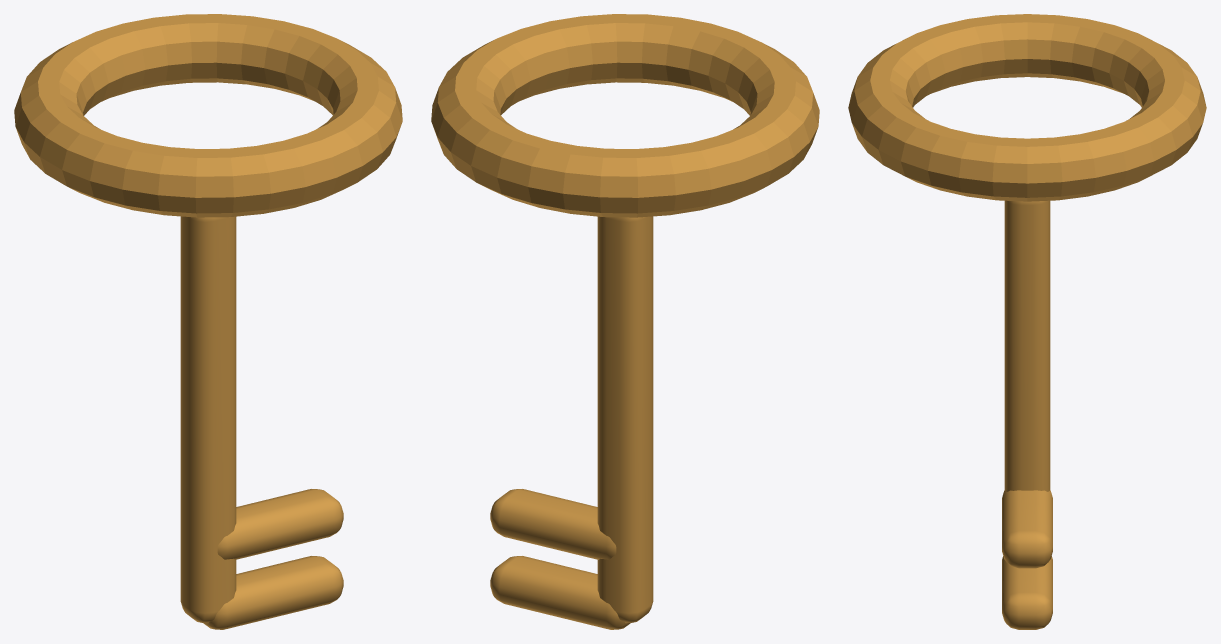
File: key.glb
3 renders of one model, left to right at view 1: azimuth 30°, elevation 25°; view 2: azimuth 150°, elevation 25°; view 3: azimuth 270°, elevation 25°, orthographic. The views are drawn at different scales.
Visible parts, largest first — view 1: Torus, Key shaft, Key tooth.001, Key tooth; view 2: Torus, Key shaft, Key tooth.001, Key tooth; view 3: Torus, Key shaft, Key tooth, Key tooth.001.
Part boxes in pixels (x1,y1,x2,y2): Torus: (14,14,402,217); Key shaft: (180,216,236,623); Key tooth.001: (203,556,343,629); Key tooth: (217,489,343,559); Torus: (431,14,819,217); Key shaft: (597,216,653,623); Key tooth.001: (490,556,630,629); Key tooth: (490,489,616,559); Torus: (848,14,1206,201); Key shaft: (1004,200,1050,491); Key tooth: (1002,490,1052,568); Key tooth.001: (1002,556,1052,629).
Bounding box in the file's own units: 0.316 × 0.4841 × 0.316.
